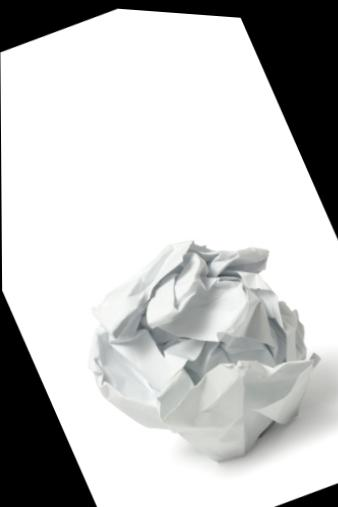paper: (34, 154, 338, 507)
